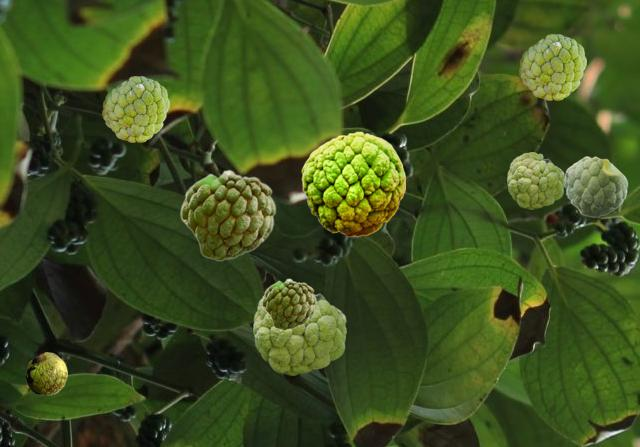atis: (301, 131, 404, 236), (179, 169, 275, 260), (253, 293, 345, 374), (519, 34, 585, 99), (102, 76, 168, 141), (564, 156, 627, 216), (507, 152, 563, 208), (261, 278, 315, 329), (25, 352, 66, 394)
